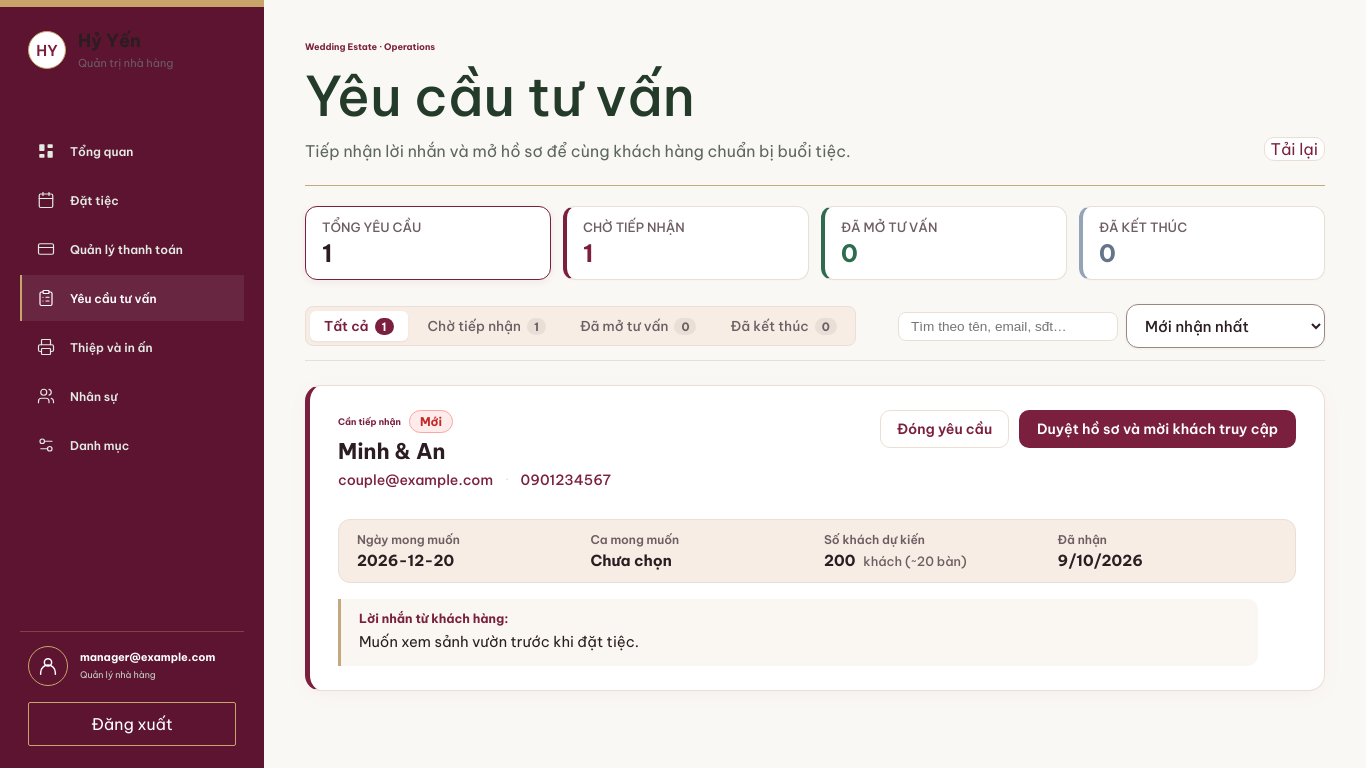
Consultation navigation › removes request data when an action loses access with HTTP 401
The width and height of the screenshot is (1366, 768).
Click the button with aria-label "Mở hồ sơ tư vấn": (1158, 429) [1019, 410, 1296, 448]
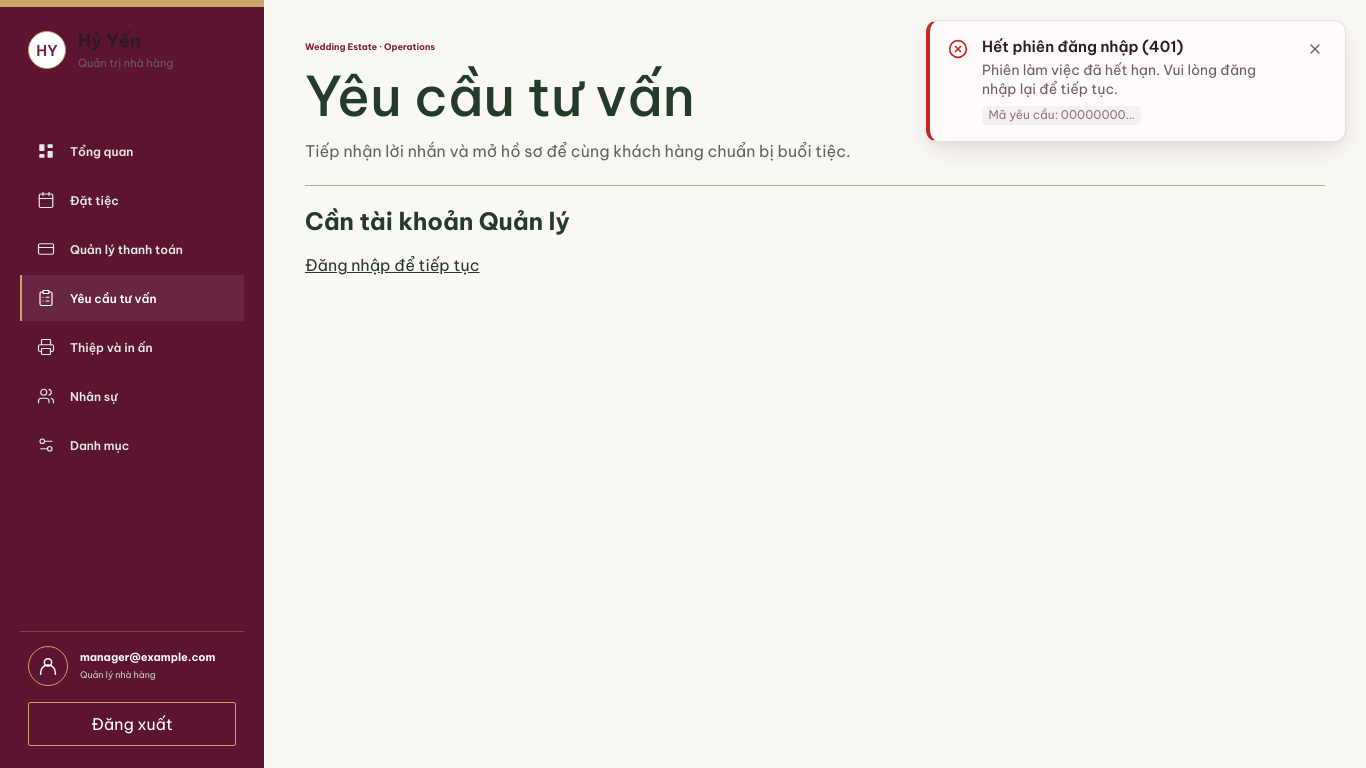
Check: the heading "Cần tài khoản Quản lý" is shown, box [305, 206, 570, 236]
Check: the link "couple@example.com" is gone
Check: the button "Tải lại" is gone
